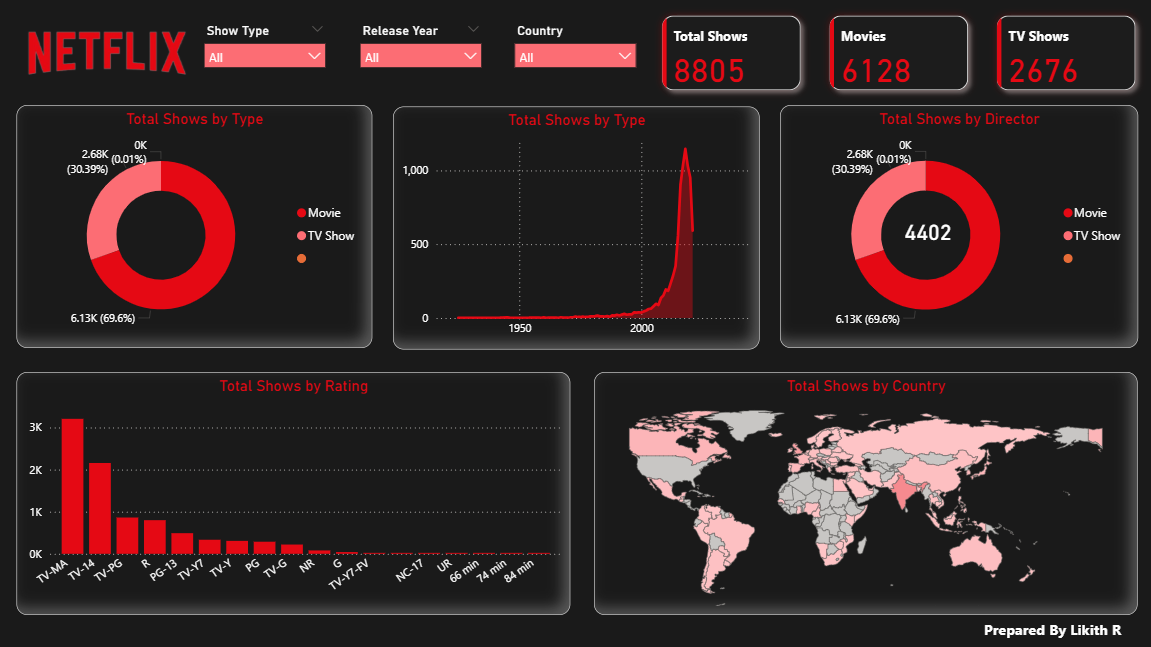

This screenshot's page, from the dashboard's own definition file:
{"tool":"powerbi","page":{"name":"Page 1","canvas":[1280,720],"ordinal":0},"visuals":[{"type":"cardVisual","fields":{"Data":["Measure.Total Shows","Measure.Movies","Measure.TV Shows"]},"box":[432.6,0,825.8,116.8],"z":1},{"type":"donutChart","title":"Total Shows by Type","fields":{"Category":["netflix_titles.type"],"Y":["CountNonNull(netflix_titles.show_id)"]},"box":[0,116.8,394.7,270],"z":2},{"type":"areaChart","title":"Total Shows by Type","fields":{"Category":["netflix_titles.release_year"],"Y":["CountNonNull(netflix_titles.show_id)"]},"box":[427.9,116.8,382.1,270],"z":3},{"type":"donutChart","title":"Total Shows by Director","fields":{"Category":["netflix_titles.type"],"Y":["CountNonNull(netflix_titles.director)"]},"box":[841.6,116.8,399.5,270],"z":4},{"type":"card","fields":{"Values":["Measure.Total Directors"]},"box":[860.5,184.7,293.7,148.4],"z":5},{"type":"columnChart","title":"Total Shows by Type","fields":{"Y":["CountNonNull(netflix_titles.show_id)"],"Category":["netflix_titles.rating"]},"box":[6.3,413.7,754.7,270],"z":6}]}

Visuals, with their boxes in screenshot pixels (x1, y1, x2, y2), scaled from the page's 1280x720 canvas onto the 1151x647 screenshot:
cardVisual - Measure.Total Shows x Measure.Movies: Rect(389, 0, 1132, 105)
"Total Shows by Type" donutChart: Rect(0, 105, 355, 348)
"Total Shows by Type" areaChart: Rect(385, 105, 728, 348)
"Total Shows by Director" donutChart: Rect(757, 105, 1116, 348)
card - Measure.Total Directors: Rect(774, 166, 1038, 299)
"Total Shows by Type" columnChart: Rect(6, 372, 684, 614)
